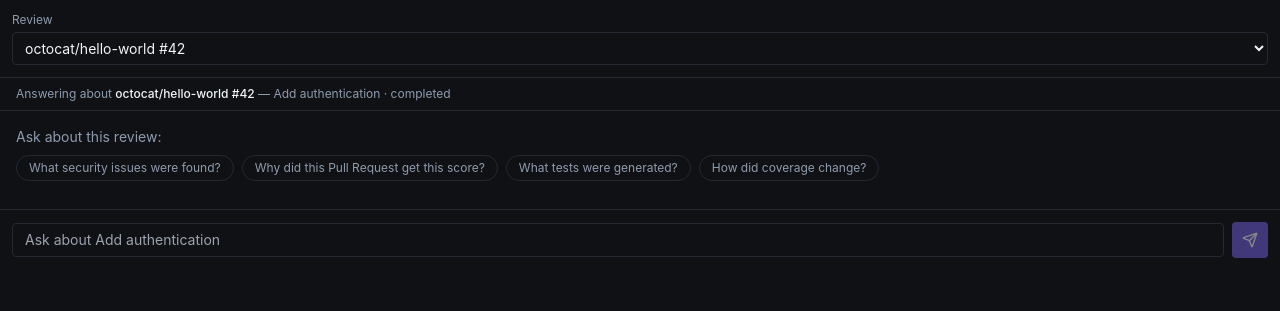
Test: QuorumChat › sends a question and renders the answer
Type "What did you find?" into the field named "Ask Quorum question" at (618, 240), box [12,223,1224,257]
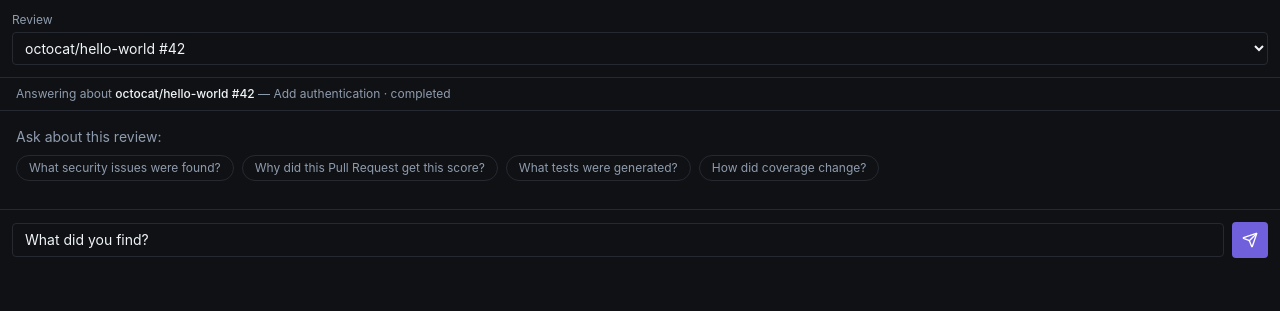
Click the button named "Send question" at (1250, 240), box [1232,222,1268,258]
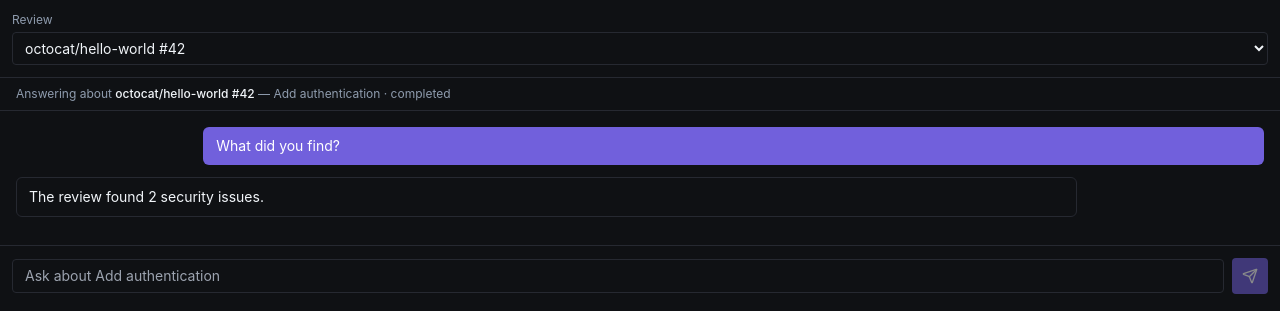
expect the text "The review found 2 security issues." is shown: met, box [29,188,264,205]
expect the text "What did you find?" is shown: met, box [203,127,1264,165]
